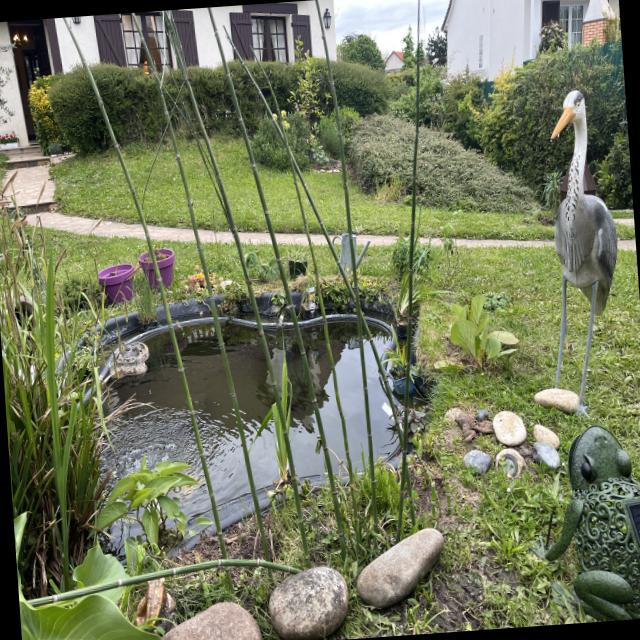Heron: (534, 77, 638, 440)
